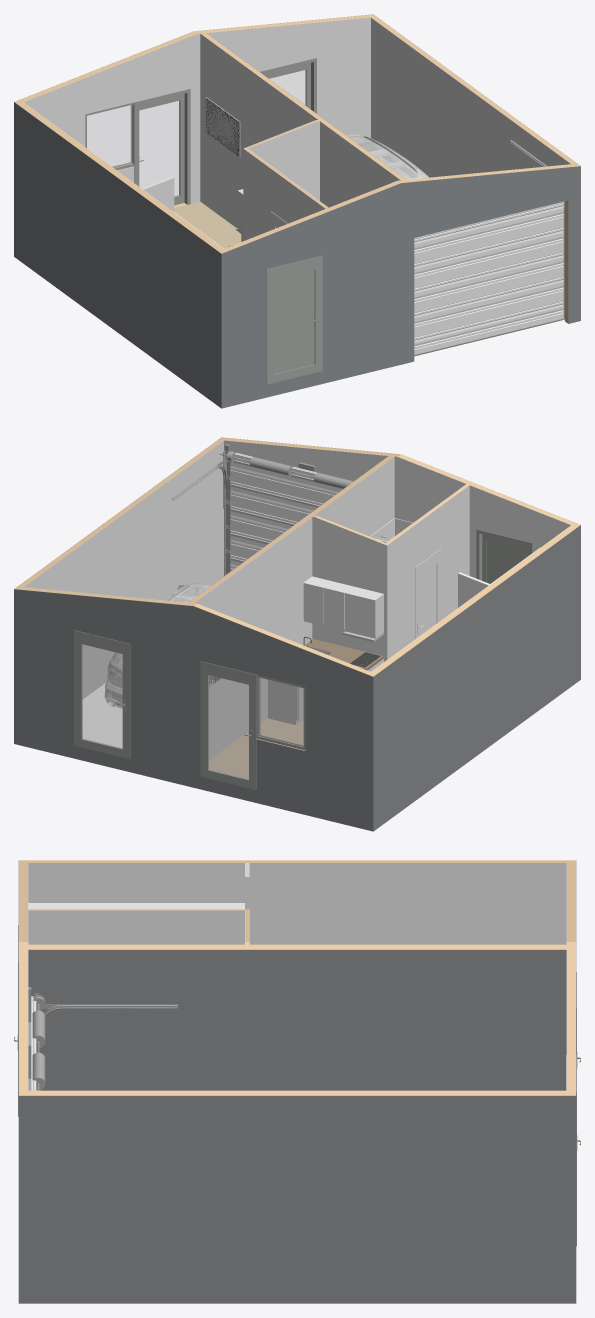
Rendered from Marturas62 (7,0x7,0m)_R01.fbx.
3 renders of one model, top to bottom at view 1: azimuth 30°, elevation 25°; view 2: azimuth 150°, elevation 25°; view 3: azimuth 270°, elevation 25°, orthographic. The views are drawn at different scales.
Parts seen in each view (by area): view 1: IfcWall/Part:2509890, IfcWall/Part:2509897, IfcDoor/Doors_Industrial-Door_Garaga_S-24-SN-24-Steel-Pan-Do, IfcWall/Part:2509899, IfcWall/Part:2509893, IfcWall/Part:2530272, IfcWall/Part:2509892, IfcDoor/Simple_vitree_-_03:1000x2100:2530335, IfcDoor/Simple_vitree_-_03:1000x2100 permatomos:2509626, IfcWall/Part:2530278, IfcWall/Part:2509885, IfcWall/Part:2530274 (+11 smaller); view 2: IfcWall/Part:2509894, IfcWall/Part:2509897, IfcWall/Part:2509899, IfcWall/Part:2530272, IfcDoor/Doors_Industrial-Door_Garaga_S-24-SN-24-Steel-Pan-Do, IfcWall/Part:2530278, IfcDoor/Simple_vitree_-_03:1000x2100 permatomos:2509626, IfcDoor/Simple_vitree_-_03:1000x2100 permatomos:2530897, IfcWall/Part:2530275, IfcWall/Part:2509889, IfcWall/Part:2509885, IfcWindow/Aluprof_MB-86-SI_E_Alu_Window-1sash-FIX_ENG_R-0004 (+19 smaller); view 3: IfcWall/Part:2509900, IfcWall/Part:2509886, IfcWall/Part:2509896, IfcWall/Part:2530277, IfcWall/Part:2509901, IfcWall/Part:2509887, IfcDoor/Doors_Industrial-Door_Garaga_S-24-SN-24-Steel-Pan-Do, IfcWall/Part:2509895, IfcWall/Part:2509891, IfcWall/Part:2509898, IfcFurnishingElement/Cabinet_-_Storage:2720 x 600 x 2100mm:2.
Boxes of the visible parts, left/top/right/bottom form: IfcWall/Part:2509890: left=221, top=166, right=580, bottom=408; IfcWall/Part:2509897: left=14, top=102, right=221, bottom=408; IfcDoor/Doors_Industrial-Door_Garaga_S-24-SN-24-Steel-Pan-Do: left=414, top=140, right=564, bottom=356; IfcWall/Part:2509899: left=371, top=17, right=570, bottom=177; IfcWall/Part:2509893: left=207, top=17, right=370, bottom=140; IfcWall/Part:2530272: left=200, top=33, right=317, bottom=227; IfcWall/Part:2509892: left=24, top=33, right=200, bottom=206; IfcDoor/Simple_vitree_-_03:1000x2100:2530335: left=266, top=255, right=322, bottom=384; IfcDoor/Simple_vitree_-_03:1000x2100 permatomos:2509626: left=130, top=89, right=190, bottom=205; IfcWall/Part:2530278: left=243, top=148, right=325, bottom=241; IfcWall/Part:2509885: left=320, top=121, right=400, bottom=207; IfcWall/Part:2530274: left=248, top=121, right=319, bottom=200; IfcWall/Part:2509894: left=14, top=589, right=373, bottom=831; IfcWall/Part:2509897: left=373, top=525, right=580, bottom=830; IfcWall/Part:2509899: left=24, top=440, right=223, bottom=698; IfcWall/Part:2530272: left=194, top=517, right=312, bottom=759; IfcDoor/Doors_Industrial-Door_Garaga_S-24-SN-24-Steel-Pan-Do: left=172, top=444, right=353, bottom=575; IfcWall/Part:2530278: left=387, top=485, right=469, bottom=659; IfcDoor/Simple_vitree_-_03:1000x2100 permatomos:2509626: left=200, top=661, right=260, bottom=789; IfcDoor/Simple_vitree_-_03:1000x2100 permatomos:2530897: left=74, top=630, right=130, bottom=759; IfcWall/Part:2530275: left=312, top=517, right=386, bottom=661; IfcWall/Part:2509889: left=469, top=485, right=570, bottom=578; IfcWall/Part:2509885: left=314, top=456, right=394, bottom=536; IfcWindow/Aluprof_MB-86-SI_E_Alu_Window-1sash-FIX_ENG_R-0004: left=256, top=675, right=305, bottom=750; IfcWall/Part:2509900: left=18, top=1095, right=575, bottom=1303; IfcWall/Part:2509886: left=28, top=949, right=566, bottom=1090; IfcWall/Part:2509896: left=28, top=863, right=566, bottom=944; IfcWall/Part:2530277: left=28, top=910, right=244, bottom=944; IfcWall/Part:2509901: left=19, top=1090, right=566, bottom=1095; IfcWall/Part:2509887: left=28, top=944, right=566, bottom=949; IfcDoor/Doors_Industrial-Door_Garaga_S-24-SN-24-Steel-Pan-Do: left=28, top=987, right=177, bottom=1090; IfcWall/Part:2509895: left=567, top=860, right=575, bottom=1095; IfcWall/Part:2509891: left=19, top=863, right=27, bottom=1090; IfcWall/Part:2509898: left=19, top=860, right=566, bottom=862; IfcFurnishingElement/Cabinet_-_Storage:2720 x 600 x 2100mm:2: left=28, top=903, right=244, bottom=909.
Bounding box in the file's own units: 700 × 338 × 712.
